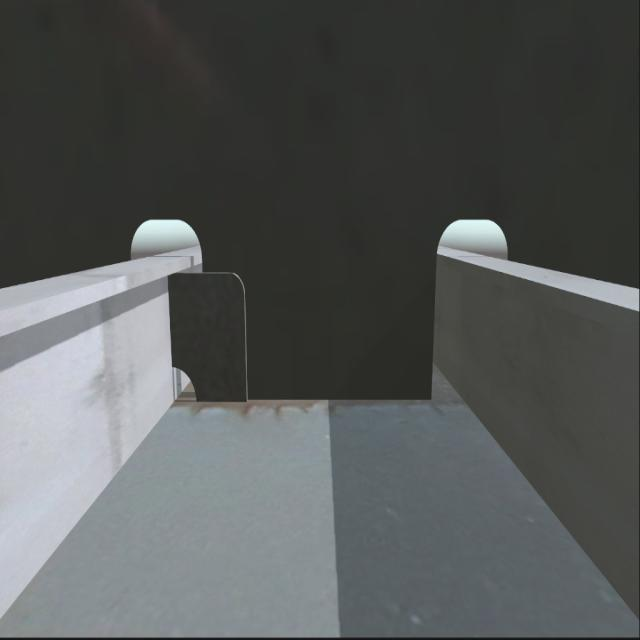fillet_yong_jeop_jang: (195, 388, 434, 407)
longi_yong_jeop_jang: (165, 272, 180, 367)
plate_CP05: (169, 270, 248, 406)
